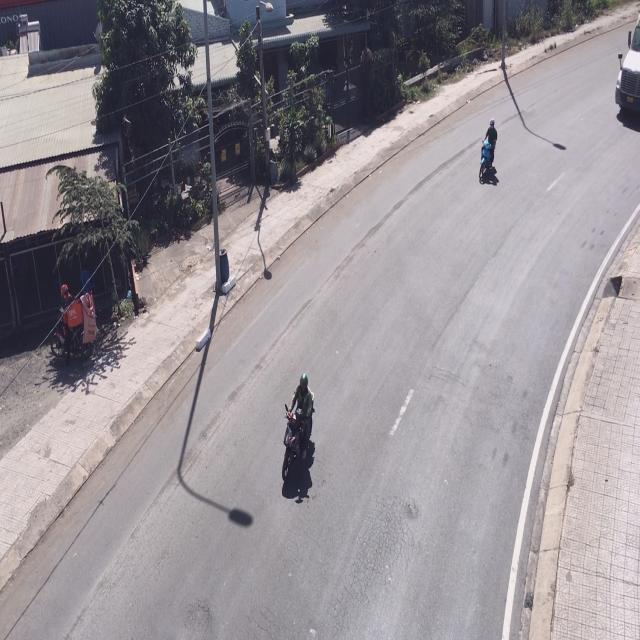motorbike: (283, 370, 316, 499), (478, 118, 502, 188)
truck: (617, 0, 640, 129)
